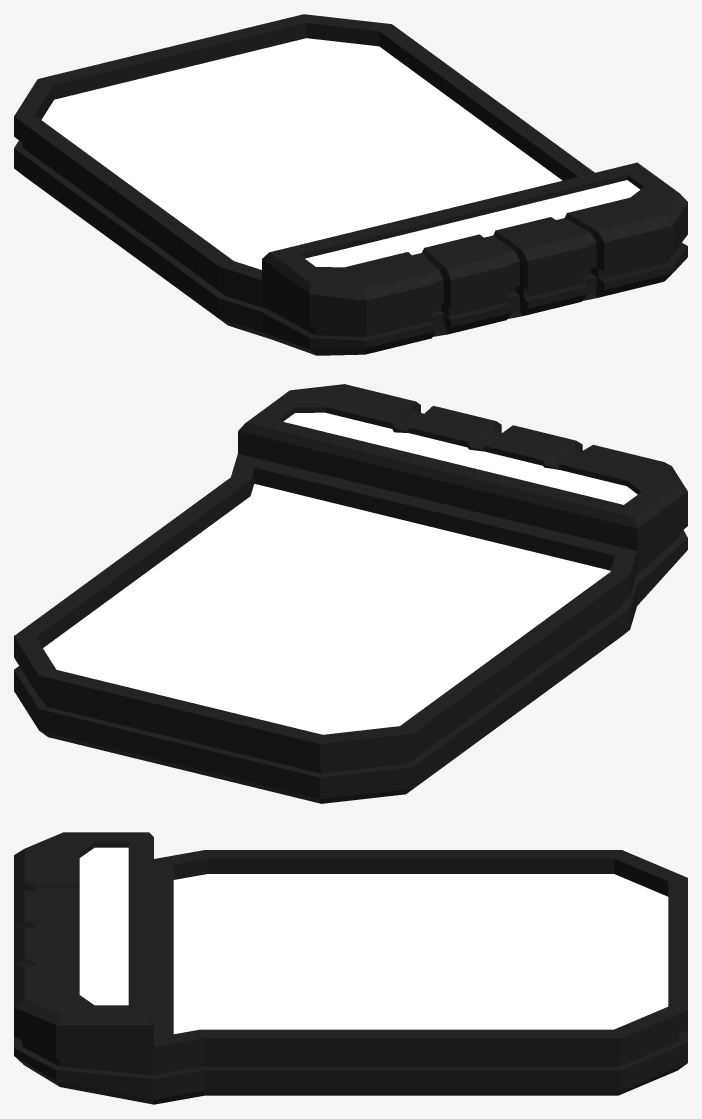
Rendered from tablet.fbx.
The picture shows the model from 3 angles, top to bottom: view 1: azimuth 30°, elevation 25°; view 2: azimuth 150°, elevation 25°; view 3: azimuth 270°, elevation 25°; orthographic projection. The views are drawn at different scales.
Visible parts, largest first — view 1: Cube; view 2: Cube; view 3: Cube.
Part boxes in pixels (box(x1,y1,x2,y2)): Cube: box(14, 14, 687, 355); Cube: box(14, 384, 687, 803); Cube: box(14, 832, 687, 1104).
Bounding box in the file's own units: 277 × 60.05 × 402.
